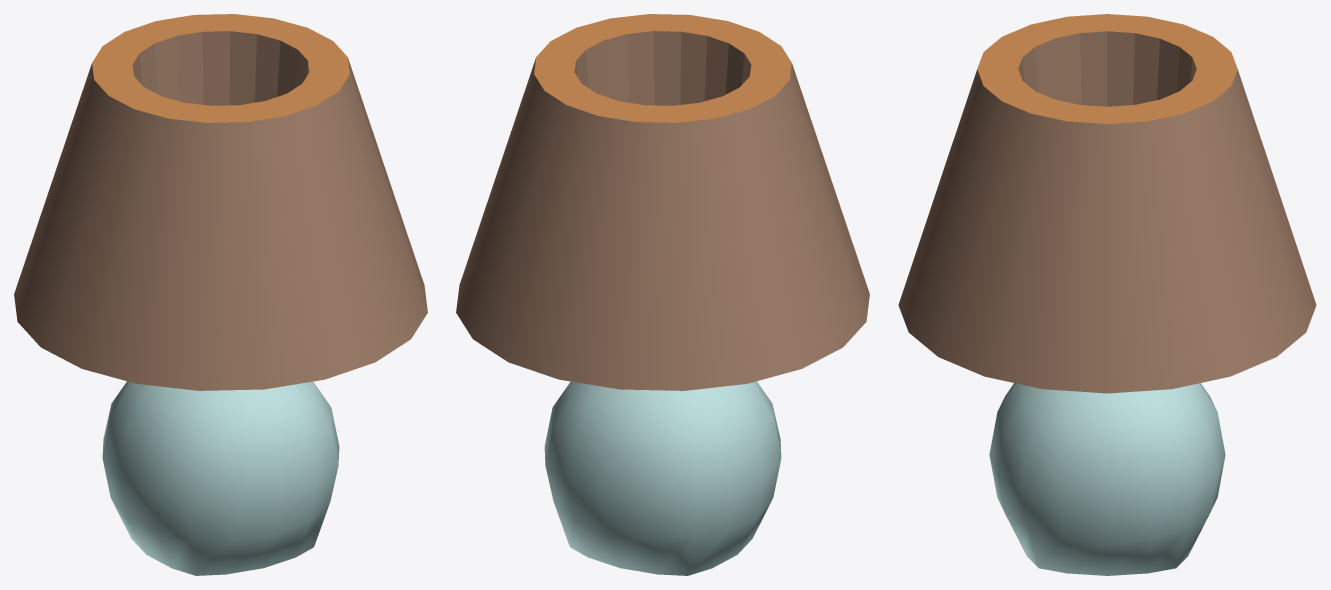
Rendered from TABLELAMP1.fbx.
3 views of the same model, side by side, from view 1: azimuth 30°, elevation 25°; view 2: azimuth 150°, elevation 25°; view 3: azimuth 270°, elevation 25° (orthographic).
Visible parts, largest first — view 1: LAMP1; view 2: LAMP1; view 3: LAMP1.
Part boxes in pixels (bbox=[...]): LAMP1: bbox=[14, 14, 427, 575]; LAMP1: bbox=[456, 14, 869, 575]; LAMP1: bbox=[898, 14, 1316, 575].
Size of the model in its own units: 3.21 by 3.98 by 3.21.
